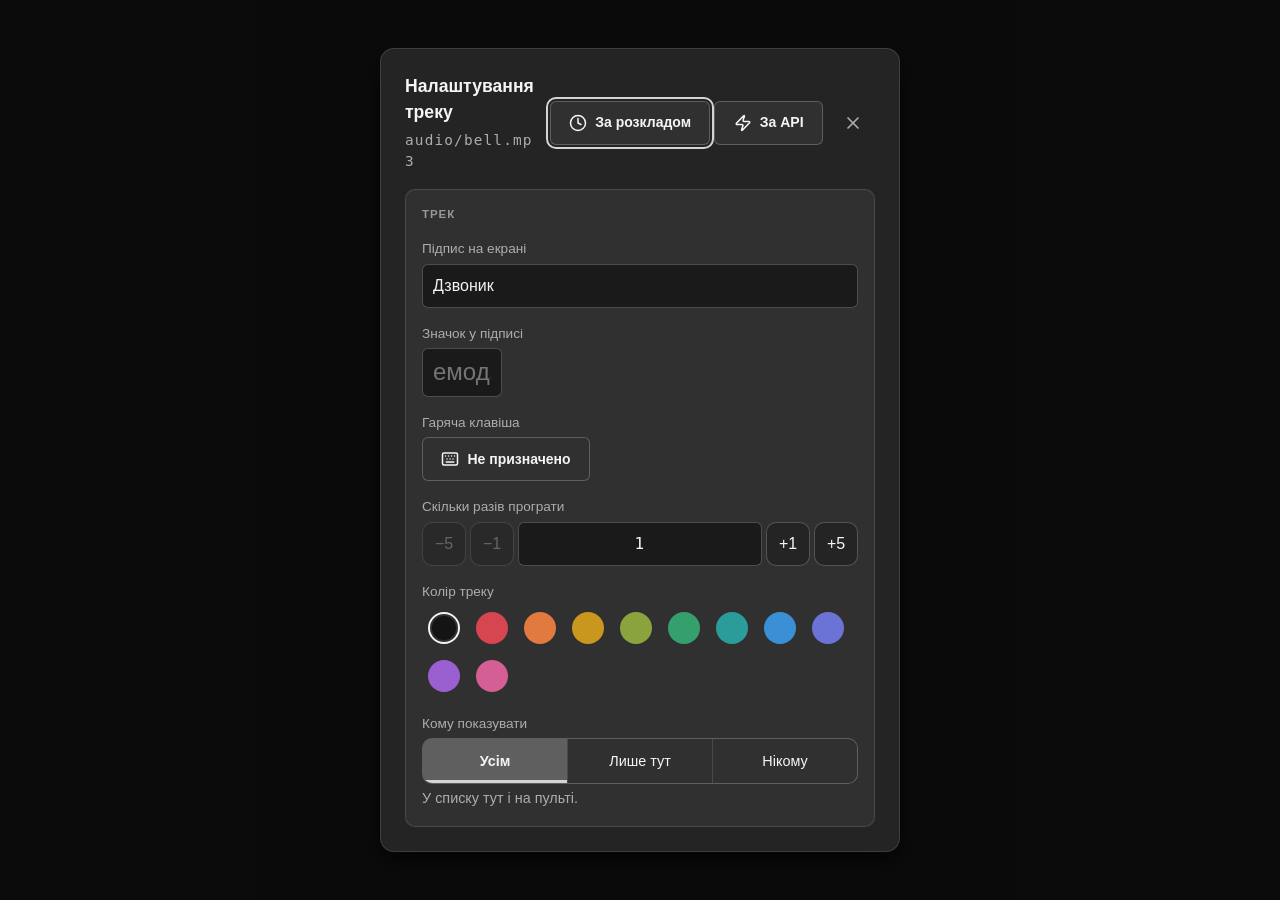
Test: TrackDialog › відкриває редактор розкладу при натисканні кнопки розкладу
The width and height of the screenshot is (1280, 900).
// Відкриваємо розклад
Click the button with test id "open-schedule-btn": (630, 123) [550,101,710,145]
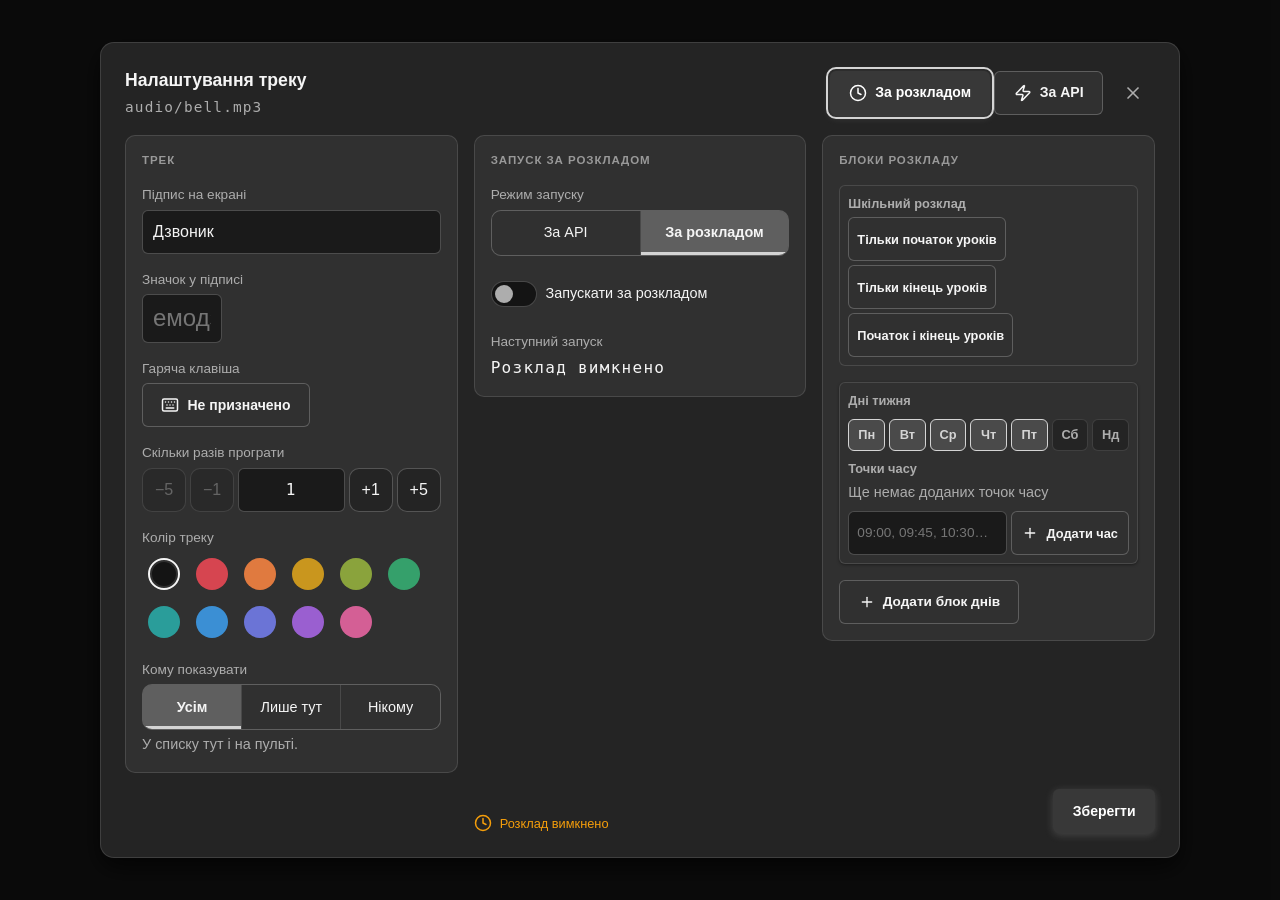
Now the element with test id "schedule-next-status" is shown, box [474,814,609,832]
